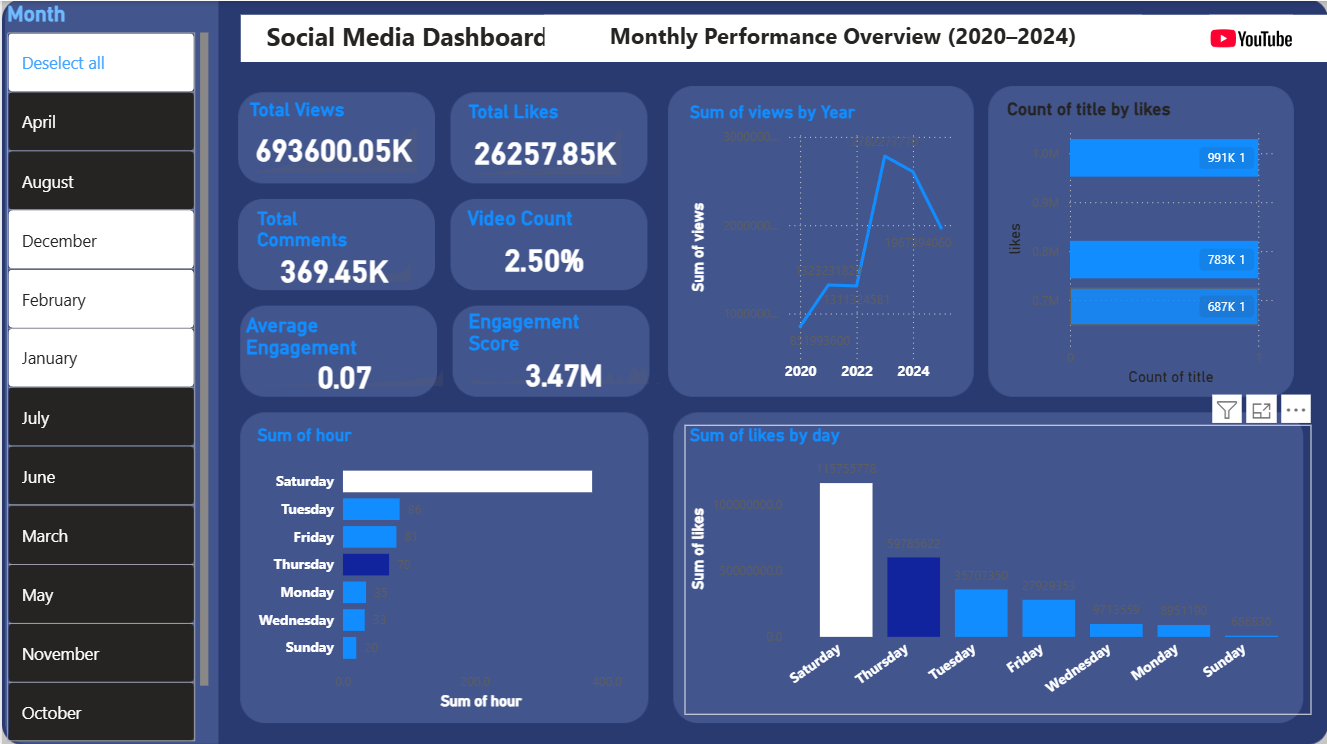

This screenshot's page, from the dashboard's own definition file:
{"tool":"powerbi","page":{"name":"Page 1","canvas":[1280,720],"ordinal":0},"visuals":[{"type":"kpi","title":"Total Views ","fields":{"Indicator":["youtube_data_processed.Total Views"],"TrendLine":["youtube_data_processed.views"]},"box":[234.6,94.7,171.5,76.8],"z":0},{"type":"kpi","title":"Total Likes ","fields":{"Indicator":["youtube_data_processed.Total Likes"],"TrendLine":["youtube_data_processed.likes"]},"box":[444.6,96.1,157.8,76.8],"z":1000},{"type":"kpi","title":"Total Comments ","fields":{"Indicator":["youtube_data_processed.Total Comments"],"TrendLine":["youtube_data_processed.comments"]},"box":[241.4,198.6,158.6,77.1],"z":2000},{"type":"kpi","title":"Video Count ","fields":{"Indicator":["youtube_data_processed.Video Count"],"TrendLine":["youtube_data_processed.video_id"]},"box":[444.3,198.6,158.6,77.1],"z":3000},{"type":"kpi","title":"  Average Engagement","fields":{"Indicator":["youtube_data_processed.Average Engagement Rate"],"TrendLine":["youtube_data_processed.engagement_rate"]},"box":[230.5,301.9,200.3,74.1],"z":4000},{"type":"kpi","title":"Engagement Score","fields":{"Indicator":["youtube_data_processed.Engagement Score2"],"TrendLine":["youtube_data_processed.engagement_rate"]},"box":[445.2,298,194.2,77.2],"z":5000},{"type":"lineChart","fields":{"Category":["youtube_data_processed.published.Variation.Date Hierarchy.Year","youtube_data_processed.published.Variation.Date Hierarchy.Quarter","youtube_data_processed.published.Variation.Date Hierarchy.Month","youtube_data_processed.published.Variation.Date Hierarchy.Day"],"Y":["Sum(youtube_data_processed.views)"]},"box":[658.7,96.1,269,279.9],"z":6000},{"type":"barChart","title":"Sum of hour ","fields":{"Category":["youtube_data_processed.day"],"Y":["Sum(youtube_data_processed.hour)"]},"box":[241.5,408.9,374.6,279.9],"z":7000},{"type":"advancedSlicerVisual","title":"Month","fields":{"Values":["youtube_data_processed.month"]},"box":[0,0,204.5,720.4],"z":8000},{"type":"clusteredBarChart","fields":{"Category":["youtube_data_processed.likes"],"Y":["CountNonNull(youtube_data_processed.title)"]},"box":[965.7,94.3,270,282],"z":9000},{"type":"columnChart","fields":{"Category":["youtube_data_processed.day"],"Y":["Sum(youtube_data_processed.likes)"]},"box":[658.7,408.9,605.1,279.9],"z":10000},{"type":"textbox","box":[230.5,13.7,1049.7,45.3],"z":11000},{"type":"image","box":[1147.2,13.7,116.6,45.3],"z":12000},{"type":"textbox","box":[524.2,13.7,576.3,45.3],"z":13000}]}

Visuals, with their boxes in screenshot pixels (x1, y1, x2, y2), scaled from the page's 1280x720 canvas onto the 1327x744 screenshot:
"Total Views " kpi: 243, 98, 421, 177
"Total Likes " kpi: 461, 99, 625, 179
"Total Comments " kpi: 250, 205, 415, 285
"Video Count " kpi: 461, 205, 625, 285
"  Average Engagement" kpi: 239, 312, 447, 389
"Engagement Score" kpi: 462, 308, 663, 388
lineChart - youtube_data_processed.published.Variation.Date Hierarchy.Year x youtube_data_processed.published.Variation.Date Hierarchy.Quarter: 683, 99, 962, 389
"Sum of hour " barChart: 250, 423, 639, 712
"Month" advancedSlicerVisual: 0, 0, 212, 743
clusteredBarChart - youtube_data_processed.likes x CountNonNull(youtube_data_processed.title): 1001, 97, 1281, 389
columnChart - youtube_data_processed.day x Sum(youtube_data_processed.likes): 683, 423, 1310, 712
textbox: 239, 14, 1326, 61
image: 1189, 14, 1310, 61
textbox: 543, 14, 1141, 61
